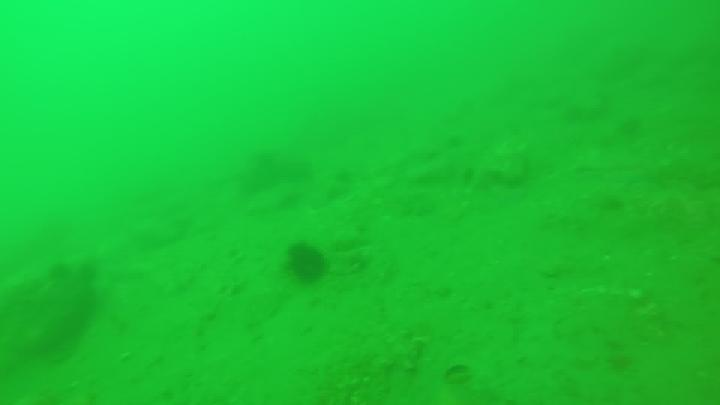echinus: (284, 241, 327, 284)
scallop: (442, 363, 472, 385)
